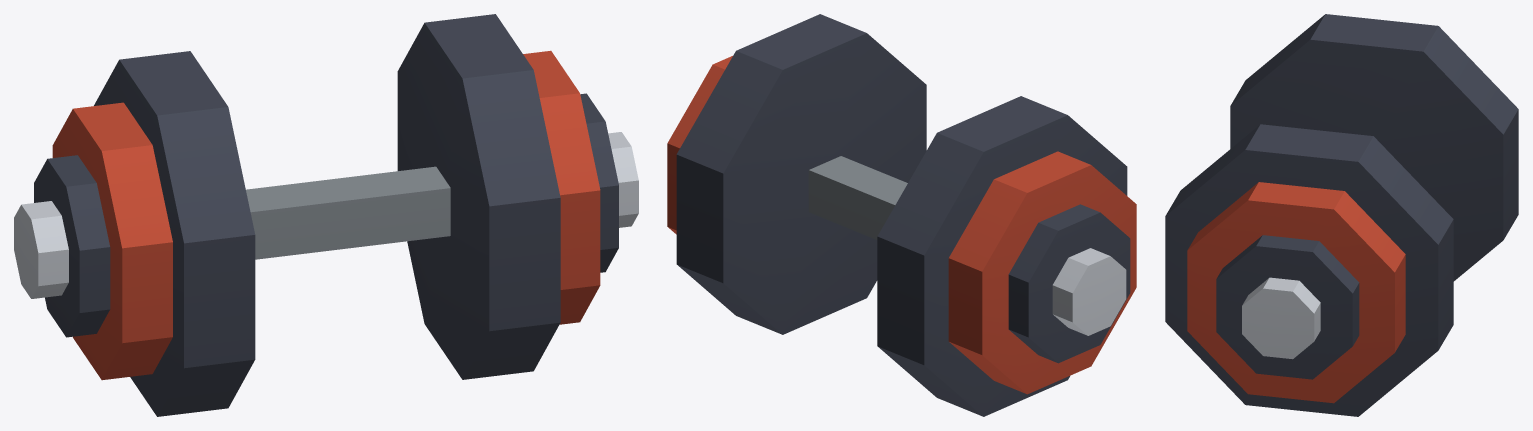
File: item_dumbbell.glb
3 renders of one model, left to right at view 1: azimuth 30°, elevation 25°; view 2: azimuth 150°, elevation 25°; view 3: azimuth 270°, elevation 25°, orthographic. The views are drawn at different scales.
Parts seen in each view (by area): view 1: item_dumbbell; view 2: item_dumbbell; view 3: item_dumbbell.
Boxes of the visible parts, x1,y1,x2,y2 form: item_dumbbell: (14, 14, 638, 416); item_dumbbell: (667, 14, 1136, 416); item_dumbbell: (1165, 14, 1518, 416).
Size of the model in its own units: 1.19 by 0.6282 by 0.7886.
